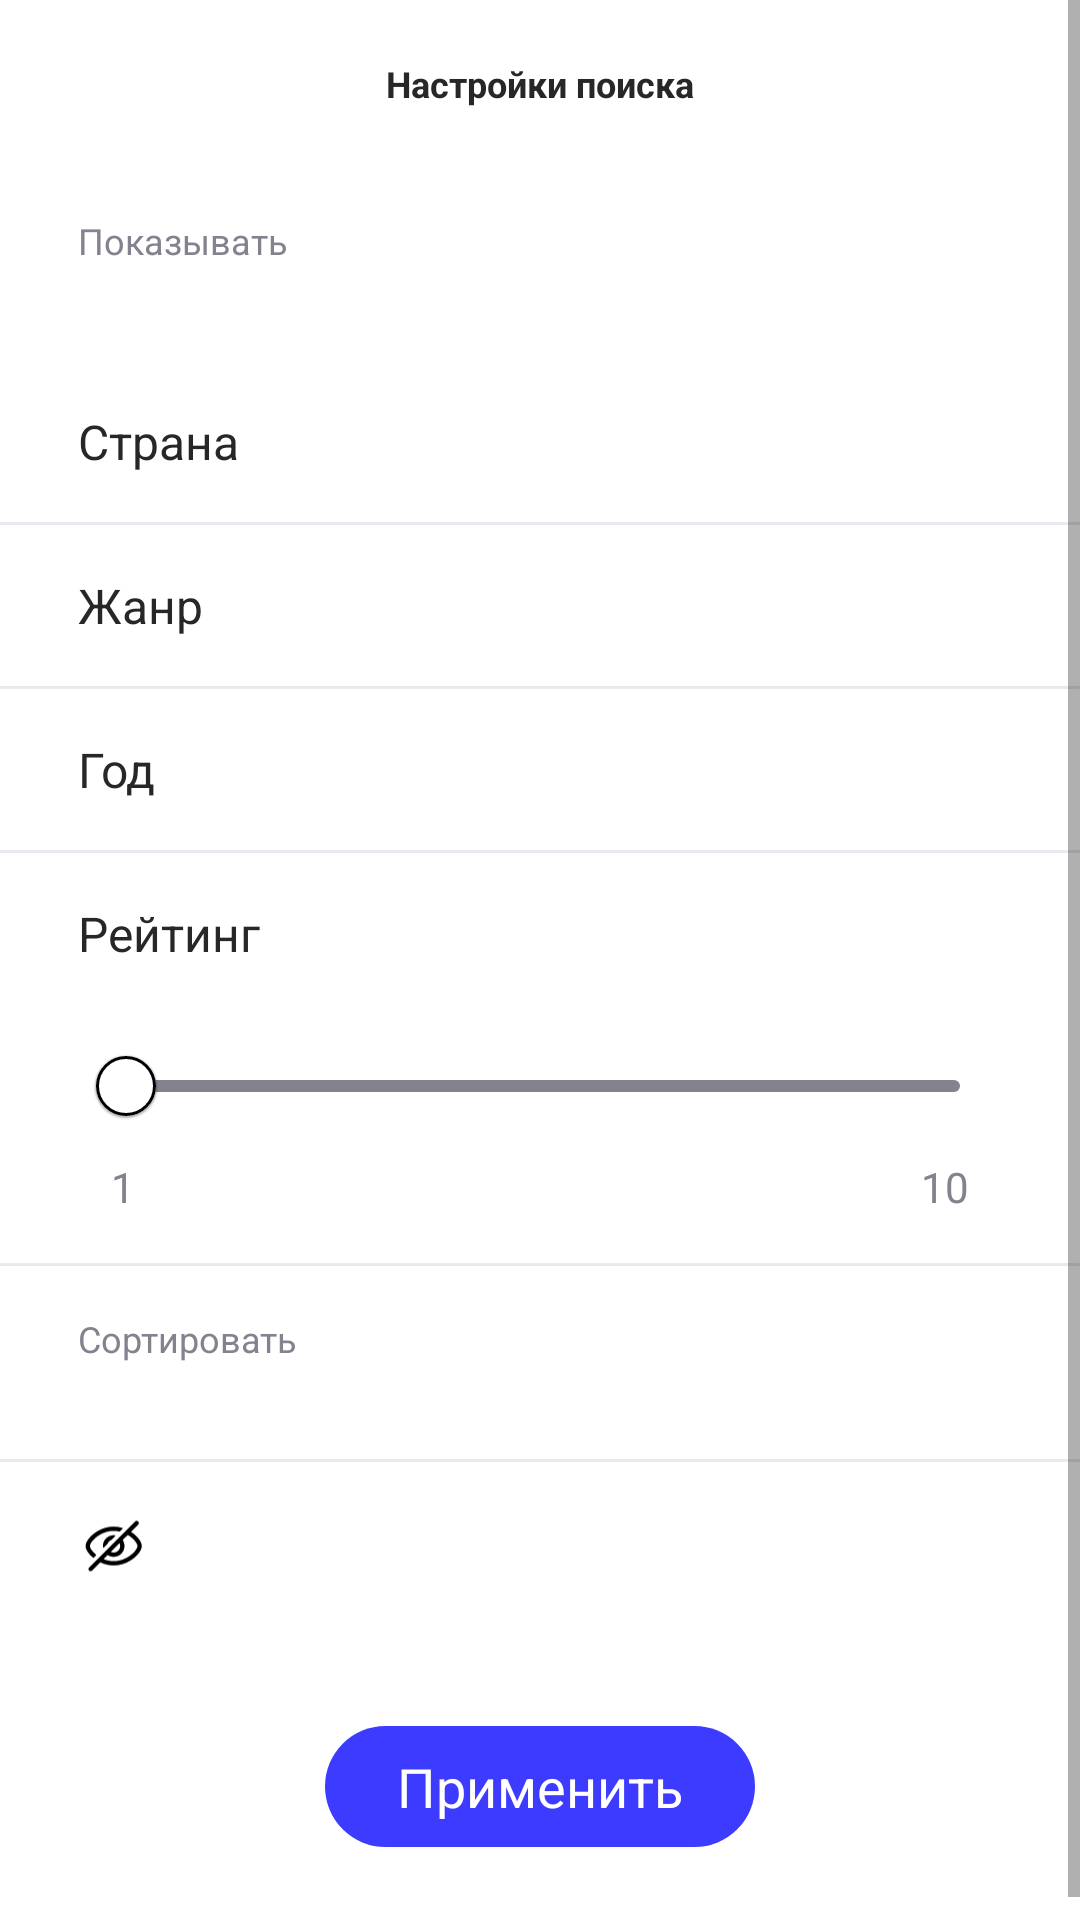

Screen size 1080 × 1920. Icon name, then its center in pixels as point (x, y):
eye crossed: point (113, 1546)
